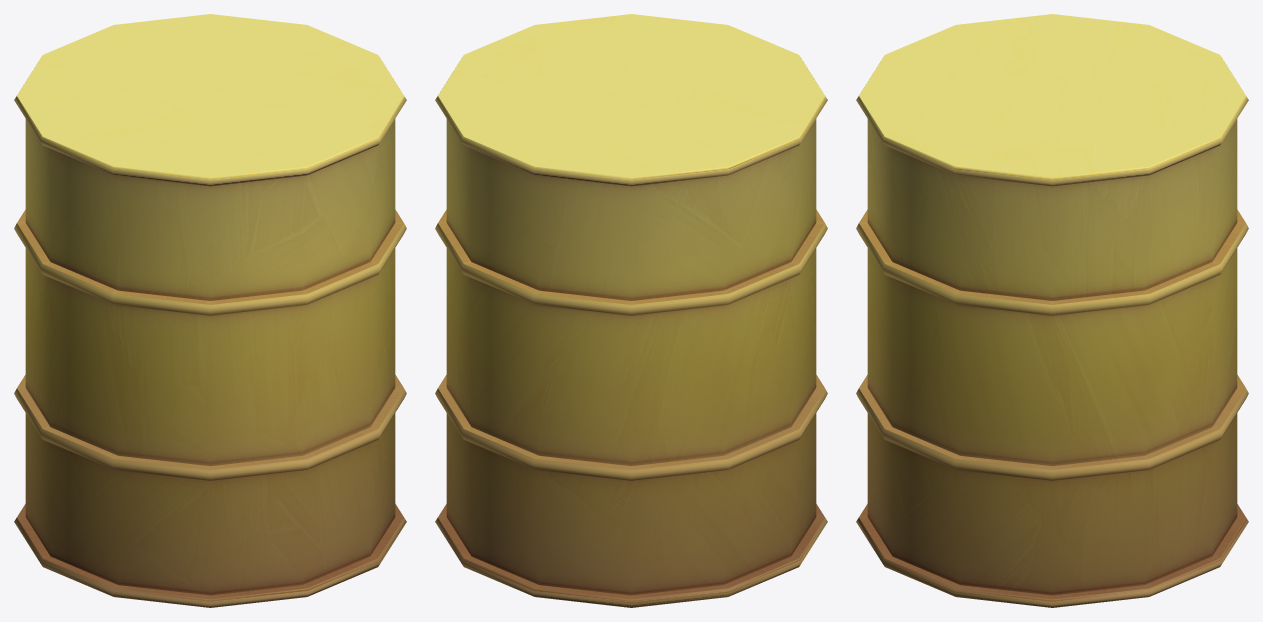
File: Tonel.fbx
3 views of the same model, side by side, from view 1: azimuth 30°, elevation 25°; view 2: azimuth 150°, elevation 25°; view 3: azimuth 270°, elevation 25° (orthographic).
Visible parts, largest first — view 1: Tonel; view 2: Tonel; view 3: Tonel.
Part boxes in pixels (x1,y1,x2,y2): Tonel: [14, 14, 406, 607]; Tonel: [435, 14, 827, 607]; Tonel: [856, 14, 1248, 607].
Size of the model in its own units: 0.9909 by 1.2 by 0.9909.
